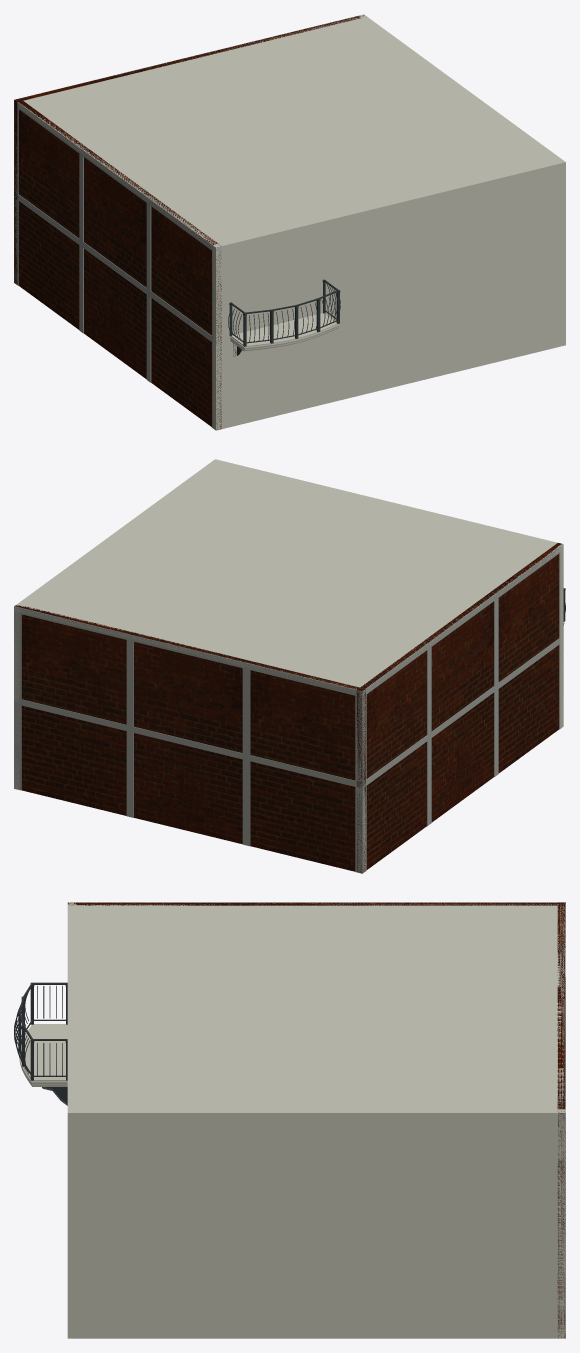
The model's file is building.glb.
The picture shows the model from 3 angles, top to bottom: view 1: azimuth 30°, elevation 25°; view 2: azimuth 150°, elevation 25°; view 3: azimuth 270°, elevation 25°; orthographic projection. The views are drawn at different scales.
Parts seen in each view (by area): view 1: roof/house:0/roof_slab#0001, house:0/edge0/z0/house:0/edge0/z0/wall_0_0, house:0/edge3/z0/house:0/edge3/z0/wall_0_0, house:0/edge2/z0/house:0/edge2/z0/wall_0_0, balcony/sample/balcony_platform#0001, house:0/edge3/z0/house:0/edge3/z0/beam_0_0, house:0/edge3/z0/house:0/edge3/z0/beam_1_0, house:0/edge1/z0/house:0/edge1/z0/wall_0_0, balcony/sample/balcony_fascia#0001; view 2: roof/house:0/roof_slab#0001, house:0/edge2/z0/house:0/edge2/z0/wall_0_0, house:0/edge3/z0/house:0/edge3/z0/wall_0_0, house:0/edge2/z0/house:0/edge2/z0/beam_0_0, house:0/edge2/z0/house:0/edge2/z0/beam_1_0, house:0/edge1/z0/house:0/edge1/z0/wall_0_0, house:0/edge0/z0/house:0/edge0/z0/wall_0_0, house:0/edge3/z0/house:0/edge3/z0/beam_0_0, house:0/edge3/z0/house:0/edge3/z0/beam_1_0, house:0/edge2/z0/house:0/edge2/z0/column_3_0, house:0/edge2/z0/house:0/edge2/z0/column_3_1, house:0/edge2/z0/house:0/edge2/z0/column_2_0 (+5 smaller); view 3: house:0/edge1/z0/house:0/edge1/z0/wall_0_0, roof/house:0/roof_slab#0001, house:0/edge0/z0/house:0/edge0/z0/wall_0_0, house:0/edge2/z0/house:0/edge2/z0/wall_0_0, balcony/sample/balcony_platform#0001, house:0/edge3/z0/house:0/edge3/z0/wall_0_0.
Part boxes in pixels (left/top/right/bottom): roof/house:0/roof_slab#0001: left=17, top=15, right=565, bottom=250; house:0/edge0/z0/house:0/edge0/z0/wall_0_0: left=212, top=160, right=565, bottom=430; house:0/edge3/z0/house:0/edge3/z0/wall_0_0: left=17, top=98, right=221, bottom=429; house:0/edge2/z0/house:0/edge2/z0/wall_0_0: left=14, top=15, right=364, bottom=284; balcony/sample/balcony_platform#0001: left=230, top=313, right=338, bottom=347; house:0/edge3/z0/house:0/edge3/z0/beam_0_0: left=14, top=193, right=216, bottom=344; house:0/edge3/z0/house:0/edge3/z0/beam_1_0: left=14, top=99, right=215, bottom=250; house:0/edge1/z0/house:0/edge1/z0/wall_0_0: left=359, top=14, right=565, bottom=310; balcony/sample/balcony_fascia#0001: left=230, top=324, right=339, bottom=351; roof/house:0/roof_slab#0001: left=14, top=460, right=562, bottom=694; house:0/edge2/z0/house:0/edge2/z0/wall_0_0: left=14, top=605, right=365, bottom=872; house:0/edge3/z0/house:0/edge3/z0/wall_0_0: left=356, top=543, right=561, bottom=872; house:0/edge2/z0/house:0/edge2/z0/beam_0_0: left=14, top=698, right=362, bottom=788; house:0/edge2/z0/house:0/edge2/z0/beam_1_0: left=14, top=606, right=362, bottom=697; house:0/edge1/z0/house:0/edge1/z0/wall_0_0: left=14, top=459, right=218, bottom=789; house:0/edge0/z0/house:0/edge0/z0/wall_0_0: left=212, top=459, right=563, bottom=728; house:0/edge3/z0/house:0/edge3/z0/beam_0_0: left=362, top=636, right=563, bottom=788; house:0/edge3/z0/house:0/edge3/z0/beam_1_0: left=362, top=544, right=563, bottom=696; house:0/edge2/z0/house:0/edge2/z0/column_3_0: left=242, top=668, right=250, bottom=754; house:0/edge2/z0/house:0/edge2/z0/column_3_1: left=242, top=759, right=250, bottom=846; house:0/edge2/z0/house:0/edge2/z0/column_2_0: left=126, top=640, right=133, bottom=726; house:0/edge1/z0/house:0/edge1/z0/wall_0_0: left=67, top=1109, right=565, bottom=1338; roof/house:0/roof_slab#0001: left=67, top=902, right=565, bottom=1117; house:0/edge0/z0/house:0/edge0/z0/wall_0_0: left=67, top=902, right=75, bottom=1338; house:0/edge2/z0/house:0/edge2/z0/wall_0_0: left=557, top=902, right=565, bottom=1338; balcony/sample/balcony_platform#0001: left=20, top=1024, right=67, bottom=1081; house:0/edge3/z0/house:0/edge3/z0/wall_0_0: left=68, top=902, right=565, bottom=905.
Bounding box in the file's own units: 12 × 6 × 13.29.
4 materials, 1 textured.
